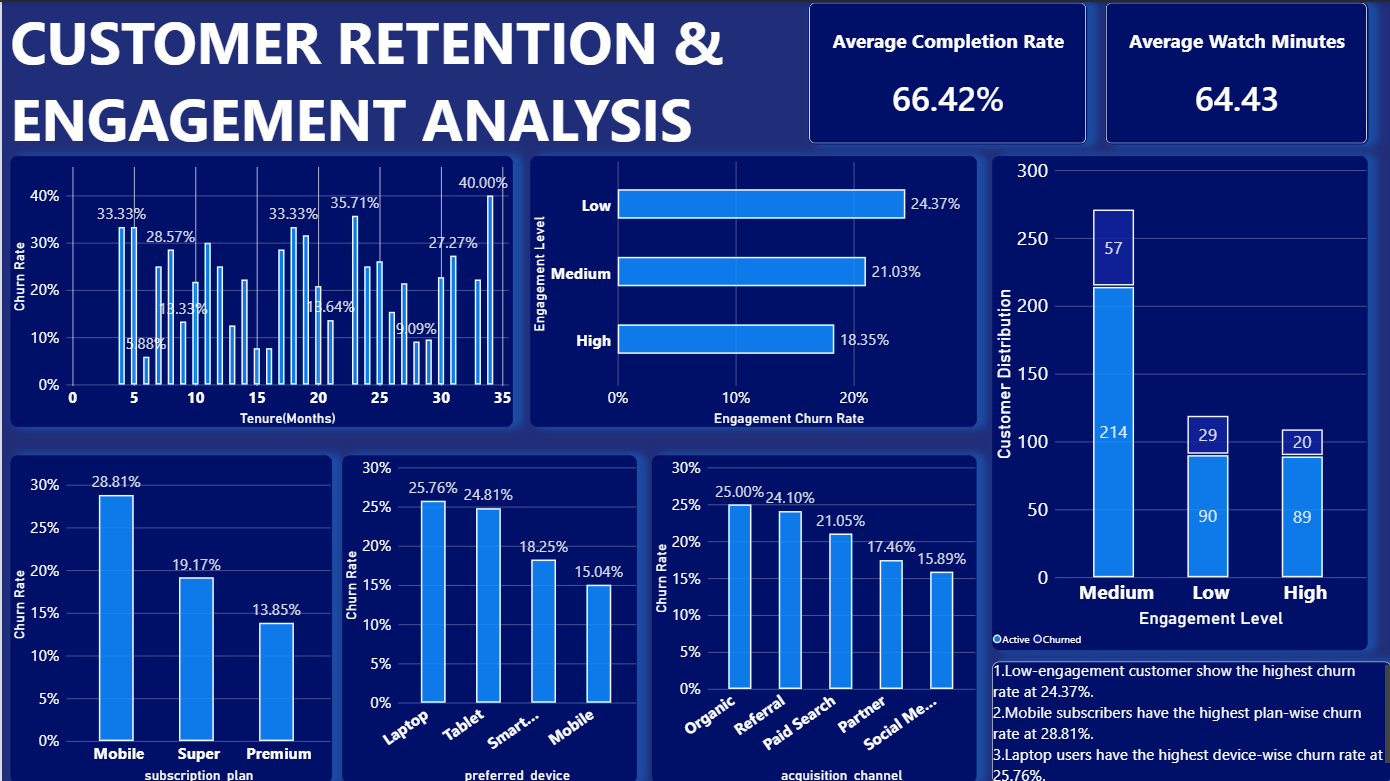

The dashboard page shown, as its layout file describes it:
{"tool":"powerbi","page":{"name":"Customer Retention and Churn","canvas":[1920,1080],"ordinal":2},"visuals":[{"type":"clusteredColumnChart","fields":{"Category":["Customers.subscription_plan"],"Y":["Customers.Churn Rate"]},"box":[11,626.4,444.6,453.3],"z":0},{"type":"clusteredColumnChart","fields":{"Category":["Customers.tenure_months"],"Y":["Customers.Churn Rate"]},"box":[11,212.4,694.2,374.5],"z":1000},{"type":"clusteredColumnChart","fields":{"Category":["Customers.preferred_device"],"Y":["Customers.Churn Rate"]},"box":[470.9,626.4,407.3,453.3],"z":2000},{"type":"columnChart","fields":{"Category":["Customers.acquisition_channel"],"Y":["Customers.Churn Rate"]},"box":[897.9,626.4,449,453.3],"z":3000},{"type":"columnChart","fields":{"Category":["Customers.Engagement Level"],"Series":["Customers.churn_status"],"Y":["CountNonNull(Customers.customer_id)"]},"box":[1368.8,212.4,519,683.3],"z":4000},{"type":"clusteredBarChart","fields":{"Category":["Customers.Engagement Level"],"Y":["Customers.Engagement Churn Rate"]},"box":[729.3,212.4,617.6,374.5],"z":5000},{"type":"cardVisual","fields":{"Data":["Viewing_Sessions.Average Completion Displsy"]},"box":[1114.7,0,385.4,197.1],"z":6000},{"type":"cardVisual","fields":{"Data":["Viewing_Sessions.Average Watch Minutes"]},"box":[1524.3,0,363.5,197.1],"z":7000},{"type":"textbox","box":[11,0,1070.9,212.4],"z":8000},{"type":"textbox","box":[1368.8,911.1,551.9,168.6],"z":9000}]}

Visuals, with their boxes in screenshot pixels (x1, y1, x2, y2), scaled from the page's 1920x1080 canvas onto the 1390x781 screenshot:
clusteredColumnChart - Customers.subscription_plan x Customers.Churn Rate: x1=8, y1=453, x2=330, y2=780
clusteredColumnChart - Customers.tenure_months x Customers.Churn Rate: x1=8, y1=154, x2=511, y2=424
clusteredColumnChart - Customers.preferred_device x Customers.Churn Rate: x1=341, y1=453, x2=636, y2=780
columnChart - Customers.acquisition_channel x Customers.Churn Rate: x1=650, y1=453, x2=975, y2=780
columnChart - Customers.Engagement Level x Customers.churn_status: x1=991, y1=154, x2=1367, y2=648
clusteredBarChart - Customers.Engagement Level x Customers.Engagement Churn Rate: x1=528, y1=154, x2=975, y2=424
cardVisual - Viewing_Sessions.Average Completion Displsy: x1=807, y1=0, x2=1086, y2=143
cardVisual - Viewing_Sessions.Average Watch Minutes: x1=1104, y1=0, x2=1367, y2=143
textbox: x1=8, y1=0, x2=783, y2=154
textbox: x1=991, y1=659, x2=1389, y2=780
